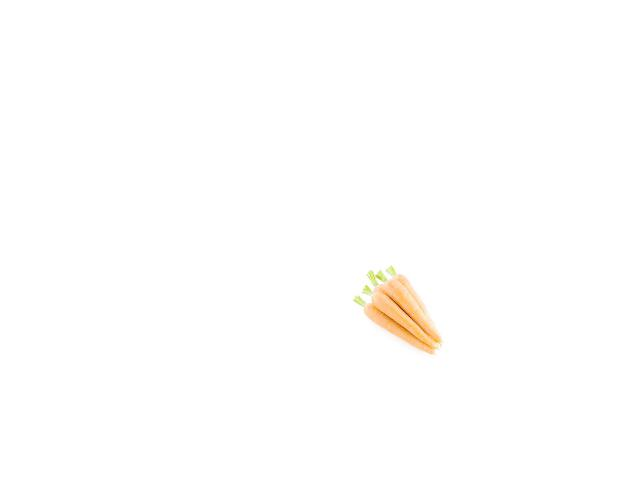carrot: (358, 304, 433, 361)
